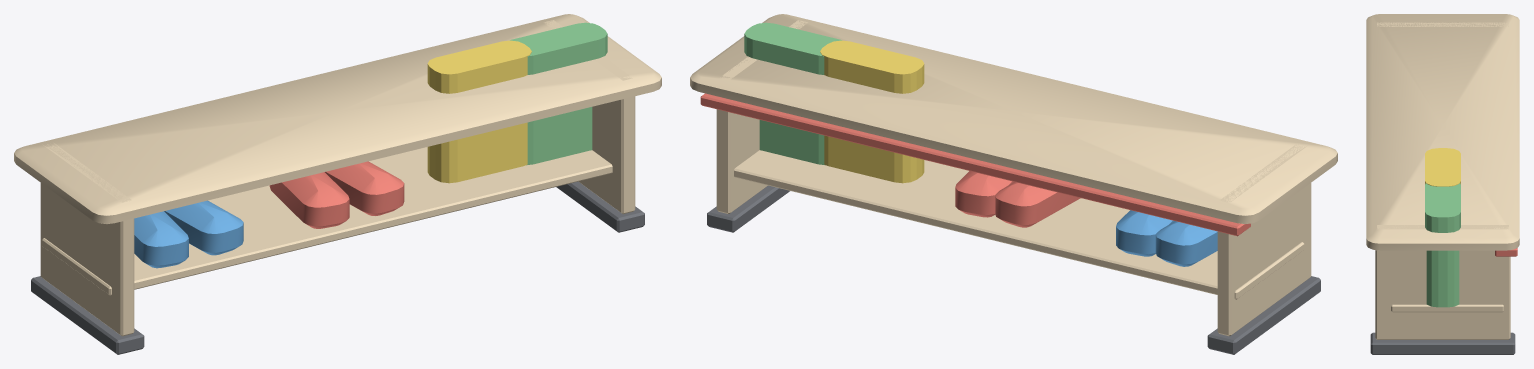
The model's file is nursery-and-primary-classroom-cloakroom-bench-b1e252f5__35026.glb.
3 views of the same model, side by side, from view 1: azimuth 30°, elevation 25°; view 2: azimuth 150°, elevation 25°; view 3: azimuth 270°, elevation 25° (orthographic). The views are drawn at different scales.
Parts seen in each view (by area): view 1: cloakroom-bench; view 2: cloakroom-bench; view 3: cloakroom-bench.
Boxes of the visible parts, box(x1,y1,x2,y2) form: cloakroom-bench: box(14, 14, 661, 354); cloakroom-bench: box(690, 14, 1337, 354); cloakroom-bench: box(1366, 14, 1519, 354).
Bounding box in the file's own units: 1.2 × 0.3392 × 0.34.
